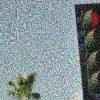traffic lights: (74, 3, 100, 100)
